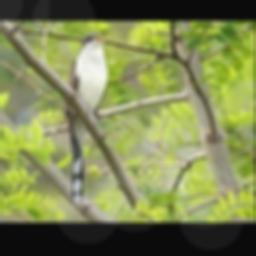Cuckoo: (65, 33, 110, 205)
